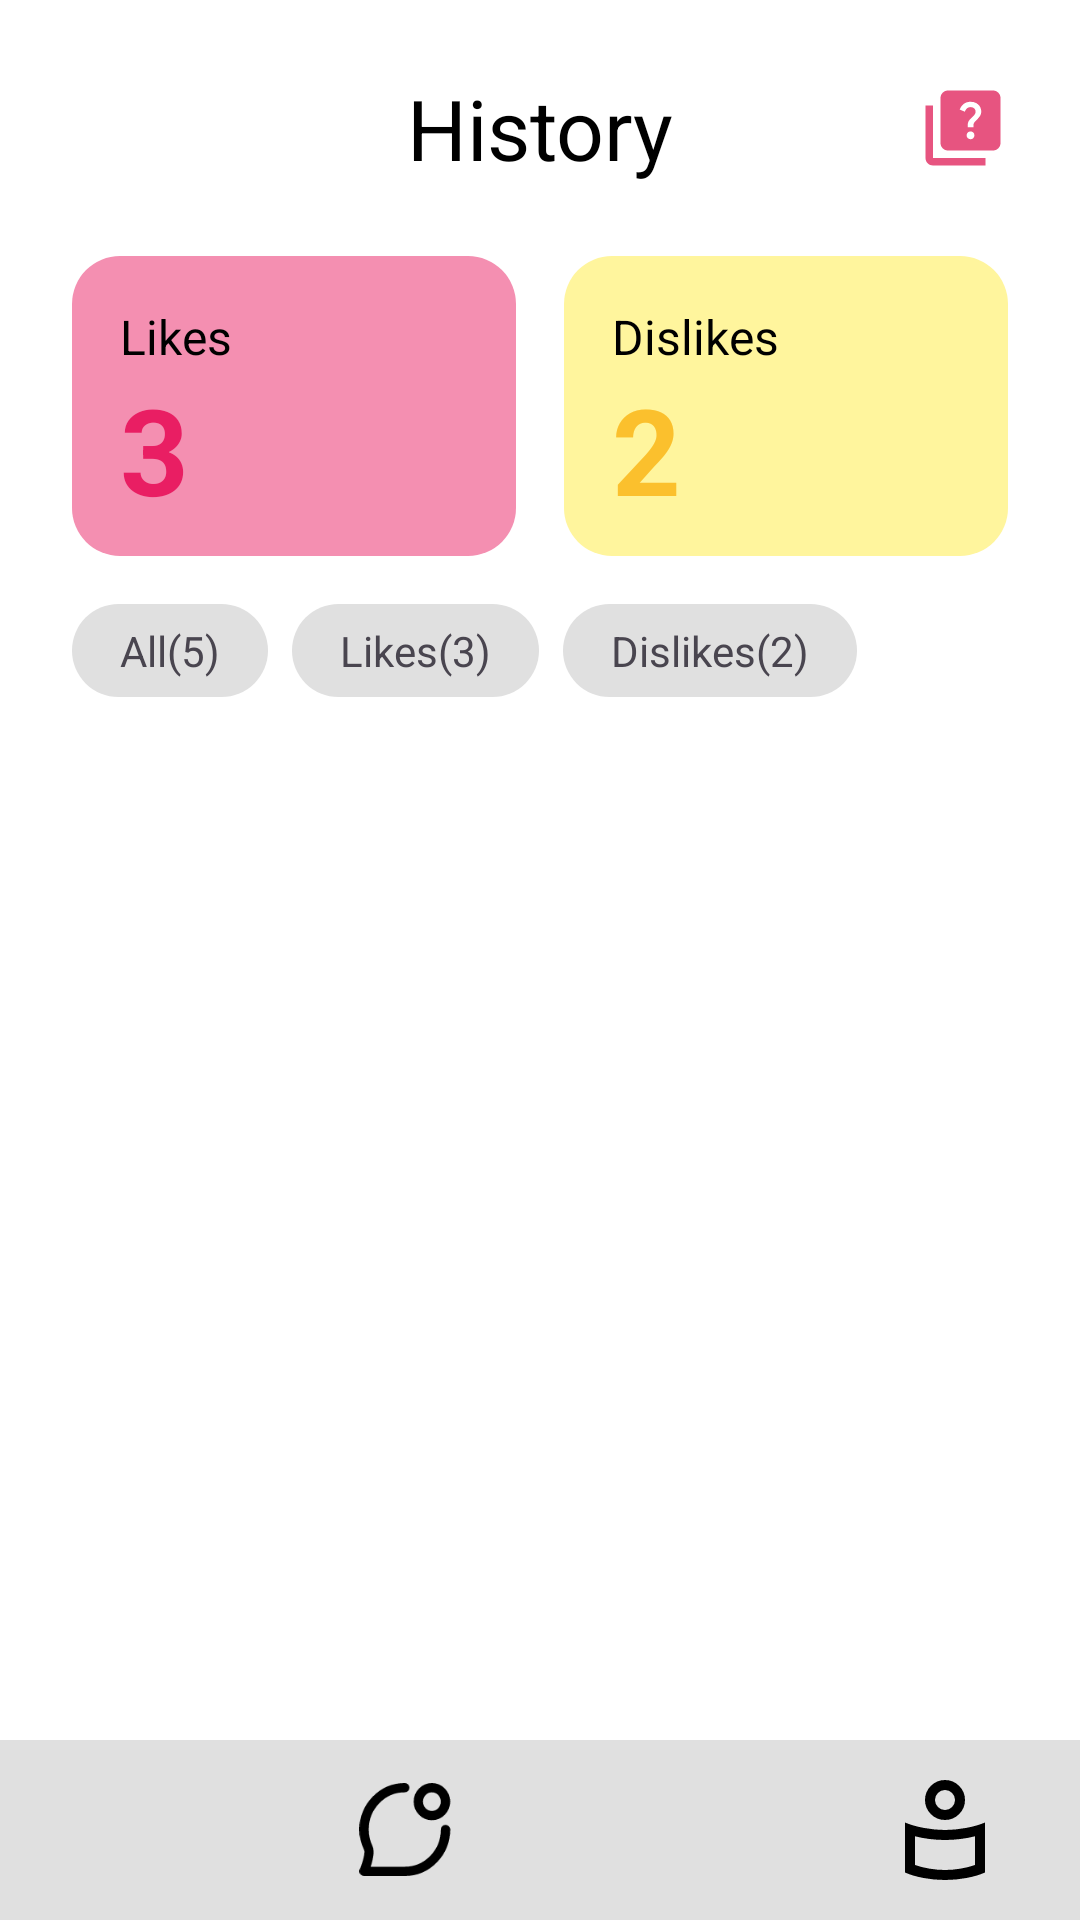

Screen size 1080w x 1920h. Icon name, then its box in pixels as [x1=x1, y1=y1, x2=x2, y2=y2]:
chat nav: [x1=359, y1=1783, x2=451, y2=1876]
profile nav: [x1=905, y1=1780, x2=985, y2=1880]
quiz: [x1=925, y1=90, x2=1001, y2=166]
